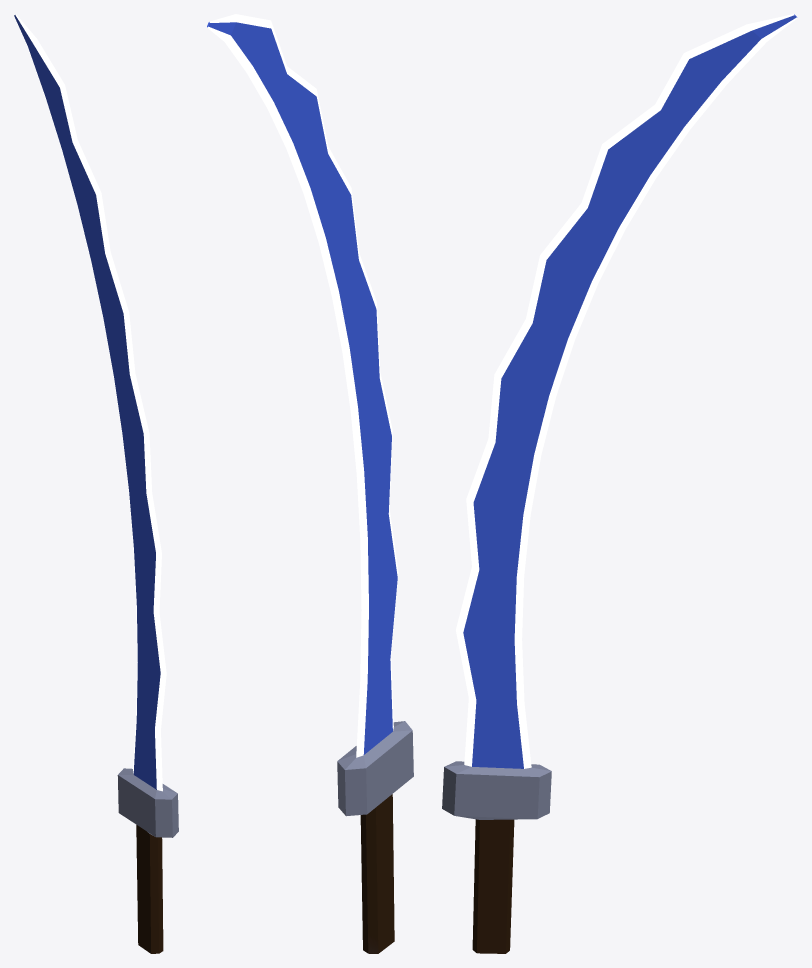
File: bossSword.glb
The picture shows the model from 3 angles, left to right: view 1: azimuth 30°, elevation 25°; view 2: azimuth 150°, elevation 25°; view 3: azimuth 270°, elevation 25°; orthographic projection. The views are drawn at different scales.
Parts seen in each view (by area): view 1: 3; view 2: 3; view 3: 3.
Part boxes in pixels (x1,y1,x2,y2): 3: (14,14,178,953); 3: (207,14,413,953); 3: (442,14,797,953).
Bounding box in the file's own units: 1.18 × 41.1 × 14.15.
Materials: 4 (2 with a texture image).
